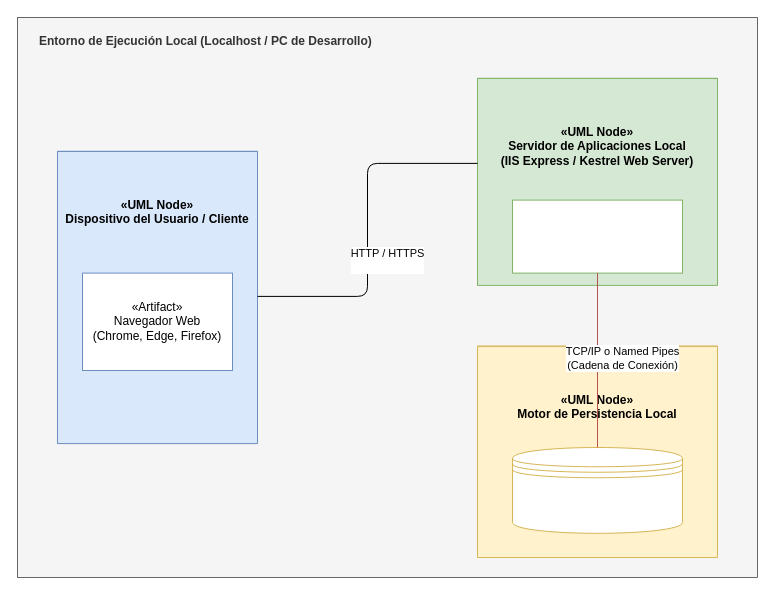
This 775x595 diagram has some shape labels left out. The shapes that lost their labels are listed below. From the top down, each one's centre as x and y in pixels, then its label:
the point at 597,236: «Artifact» DevPath.exe / dll
the point at 597,489: «Database» SQL Server LocalDB
